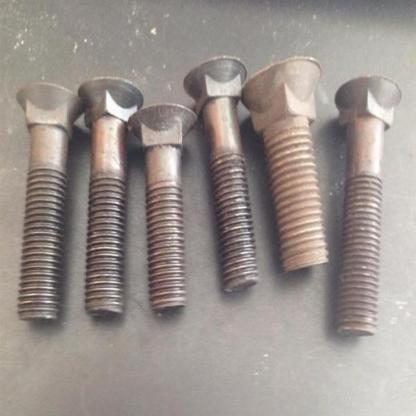FOD: (239, 54, 331, 278), (182, 52, 262, 296), (10, 81, 84, 327), (334, 74, 402, 340), (78, 75, 144, 320), (127, 100, 198, 315)
